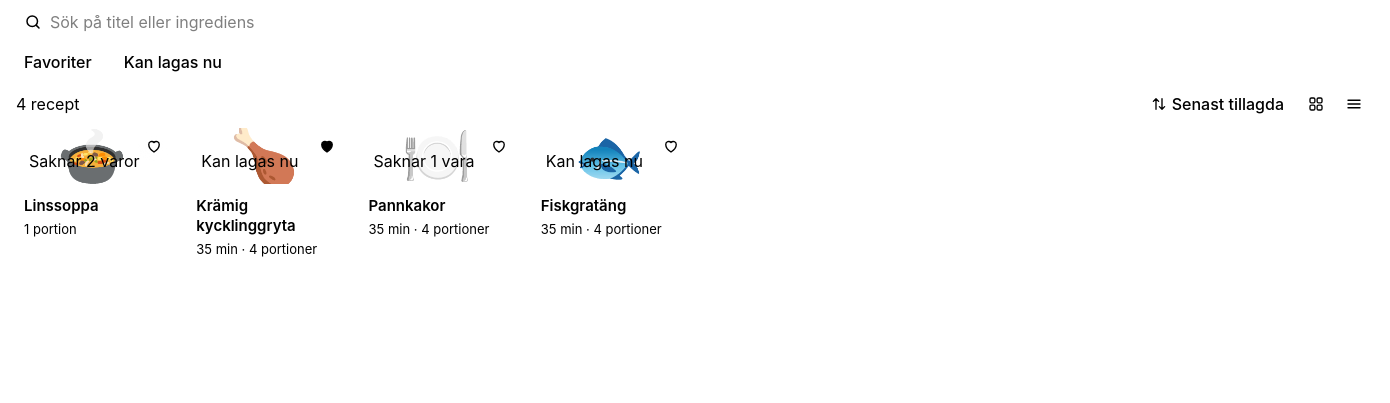
Library › offers Föreslå rätter med AI when the pantry could not be read too, since the server reads it again
Click the button "Kan lagas nu": (173, 62) [112,46,234,78]
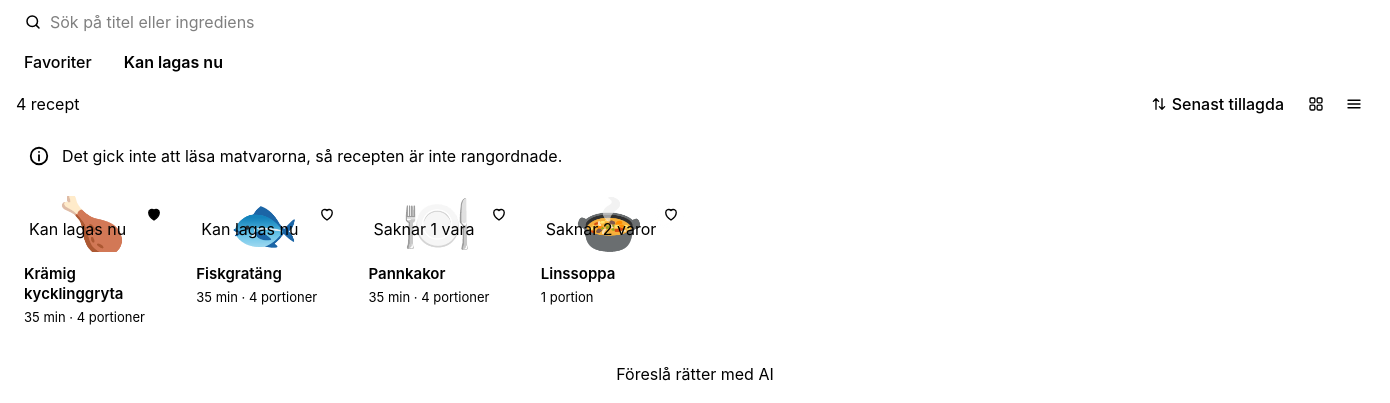
Expected: the button "Föreslå rätter med AI" is shown, [12,362,1378,386]
